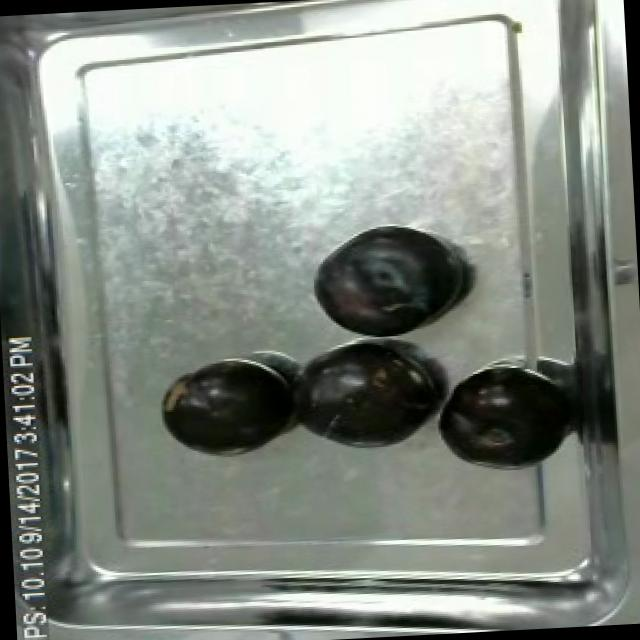Fruit: (308, 220, 468, 342), (292, 344, 439, 457), (429, 363, 576, 474), (153, 358, 300, 464)
